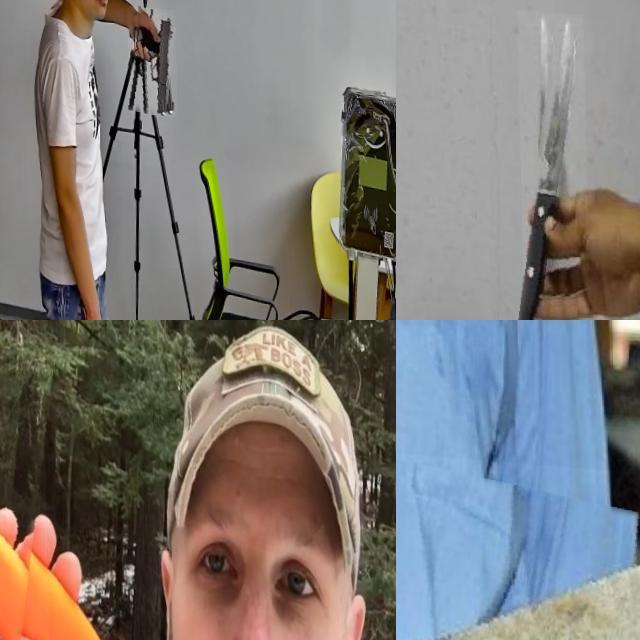-: (396, 435, 640, 640), (0, 320, 117, 640), (515, 4, 588, 320)
gun-knife-thesis - v11 Yolov5 augmented: (126, 2, 176, 112)
